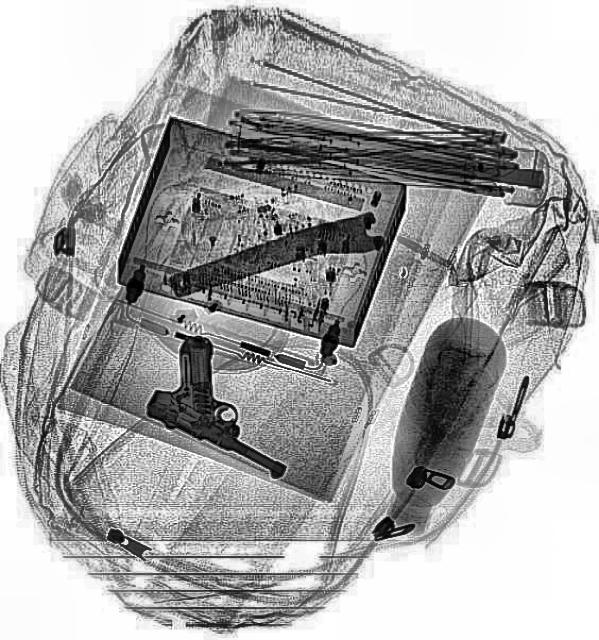Gun: (137, 326, 325, 482)
